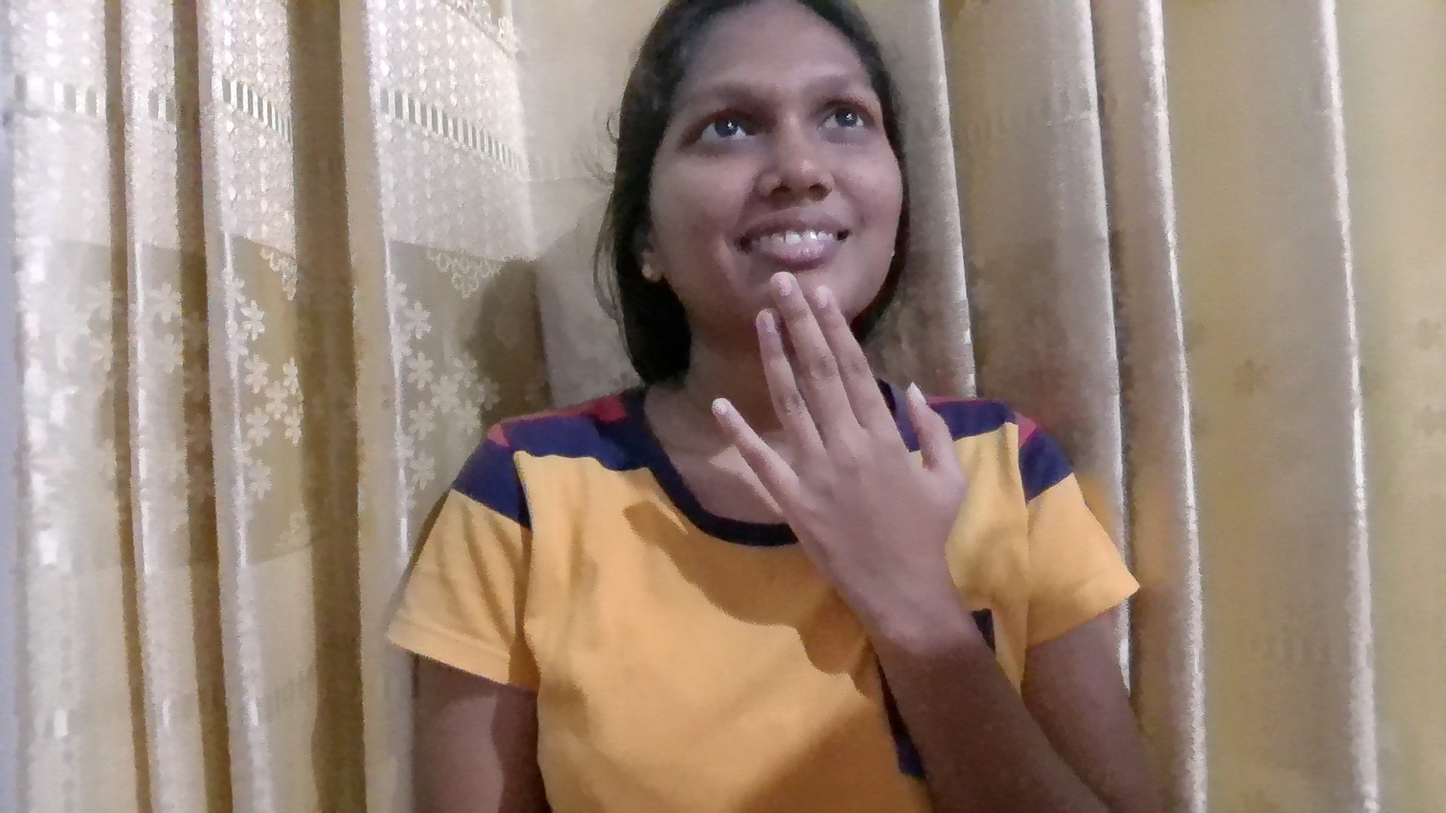Thank You: (642, 258, 1058, 616)
